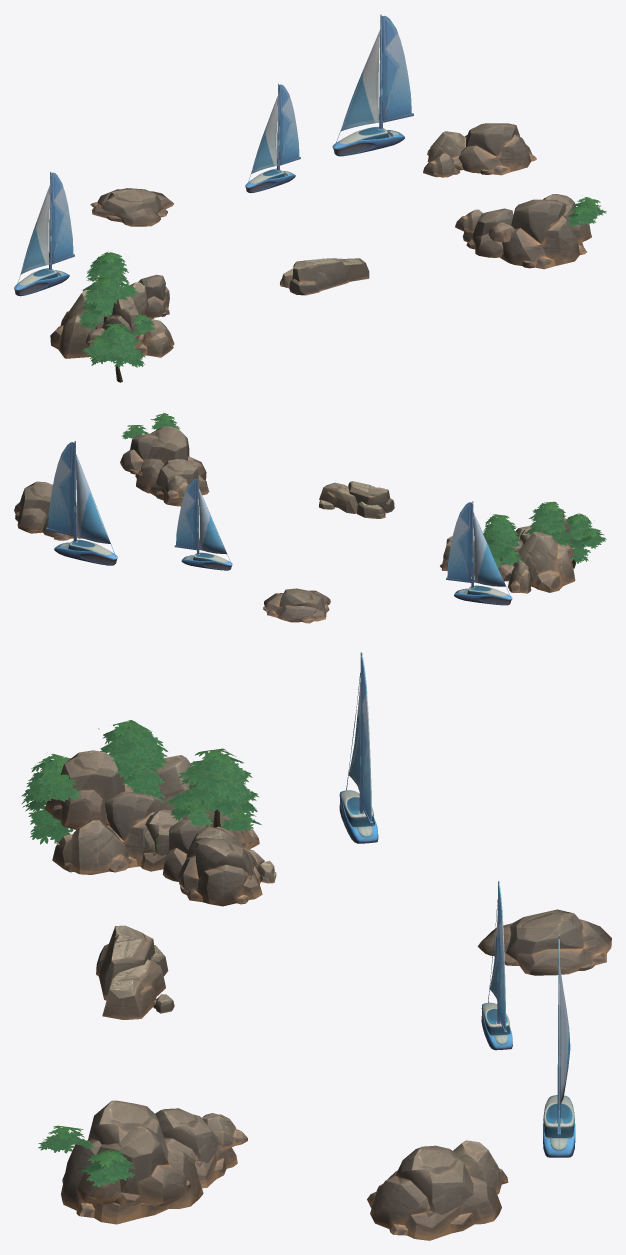
The model's file is pref_sm_4v4pointbake_CSD_X_lv2.fbx.
3 renders of one model, top to bottom at view 1: azimuth 30°, elevation 25°; view 2: azimuth 150°, elevation 25°; view 3: azimuth 270°, elevation 25°, orthographic. The views are drawn at different scales.
Visible parts, largest first — view 1: sm_4v4pointbake_CSD_X_b_lv2, sm_4v4pointbake_CSD_X_c_lv2, sm_4v4pointbake_CSD_X_a_lv2; view 2: sm_4v4pointbake_CSD_X_b_lv2, sm_4v4pointbake_CSD_X_c_lv2, sm_4v4pointbake_CSD_X_a_lv2; view 3: sm_4v4pointbake_CSD_X_b_lv2, sm_4v4pointbake_CSD_X_a_lv2, sm_4v4pointbake_CSD_X_c_lv2.
Boxes of the visible parts, x1,y1,x2,y2 form: sm_4v4pointbake_CSD_X_b_lv2: (50,123,591,358); sm_4v4pointbake_CSD_X_c_lv2: (14,14,413,296); sm_4v4pointbake_CSD_X_a_lv2: (79,197,606,382); sm_4v4pointbake_CSD_X_b_lv2: (14,426,575,623); sm_4v4pointbake_CSD_X_c_lv2: (46,441,512,605); sm_4v4pointbake_CSD_X_a_lv2: (121,413,606,568); sm_4v4pointbake_CSD_X_b_lv2: (44,750,611,1240); sm_4v4pointbake_CSD_X_a_lv2: (21,720,261,1187); sm_4v4pointbake_CSD_X_c_lv2: (339,652,575,1157).
Bounding box in the file's own units: 43.27 × 11.38 × 24.53.
